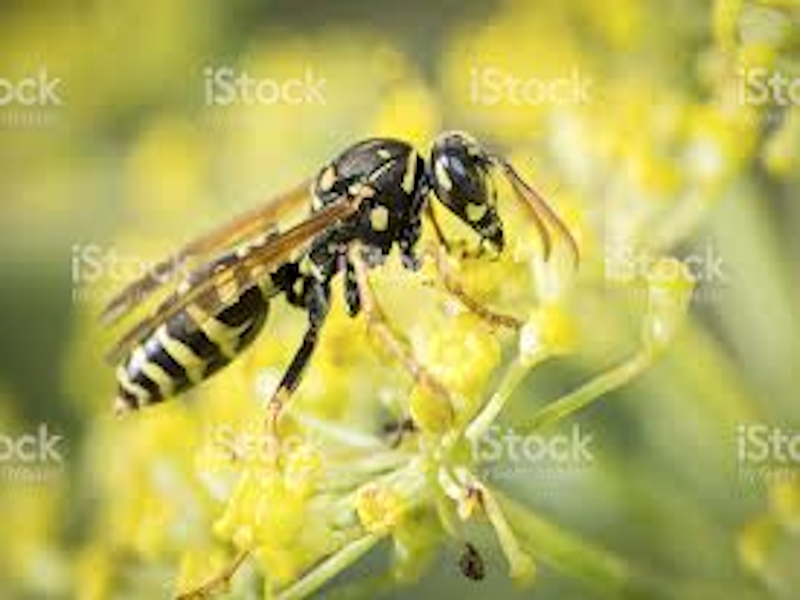chax: (6, 102, 594, 471)
